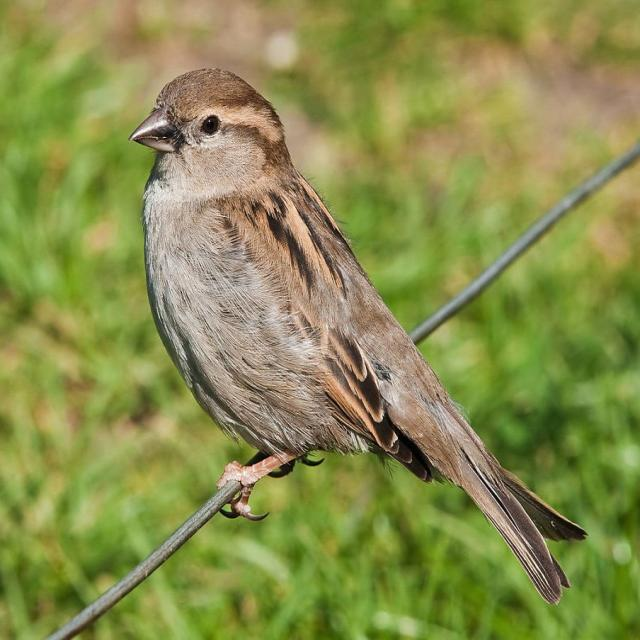Sparrow: (122, 51, 585, 604)
